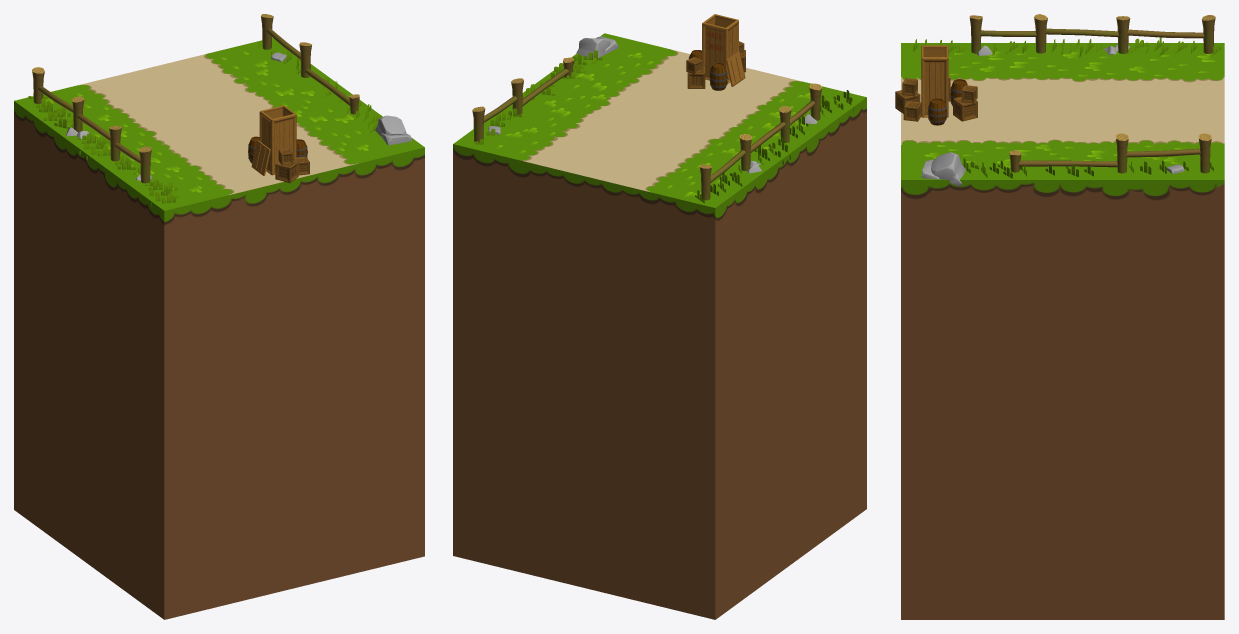
The model's file is Plataforma Cajas Centro.fbx.
The picture shows the model from 3 angles, left to right: view 1: azimuth 30°, elevation 25°; view 2: azimuth 150°, elevation 25°; view 3: azimuth 270°, elevation 25°; orthographic projection. The views are drawn at different scales.
Parts seen in each view (by area): view 1: Plataforma 1.009, Cube.068; view 2: Plataforma 1.009, Cube.068; view 3: Plataforma 1.009, Cube.068, Cube.360, Cylinder.117, Cylinder.119, Cylinder.118, Cube.071, Cylinder.131, Cylinder.135, Cylinder.115.
Part boxes in pixels (left/top/right/bottom): Plataforma 1.009: left=14, top=38, right=424, bottom=619; Cube.068: left=259, top=105, right=296, bottom=175; Plataforma 1.009: left=453, top=33, right=866, bottom=619; Cube.068: left=702, top=14, right=738, bottom=83; Plataforma 1.009: left=901, top=43, right=1224, bottom=619; Cube.068: left=921, top=45, right=948, bottom=117; Cube.360: left=931, top=152, right=965, bottom=185; Cylinder.117: left=1018, top=160, right=1117, bottom=167; Cylinder.119: left=1127, top=29, right=1204, bottom=38; Cylinder.118: left=1126, top=148, right=1200, bottom=157; Cube.071: left=953, top=96, right=977, bottom=121; Cylinder.131: left=1045, top=28, right=1118, bottom=37; Cylinder.135: left=927, top=98, right=947, bottom=125; Cylinder.115: left=1034, top=14, right=1047, bottom=53.
Bounding box in the file's own units: 1018 × 1703 × 1018.
